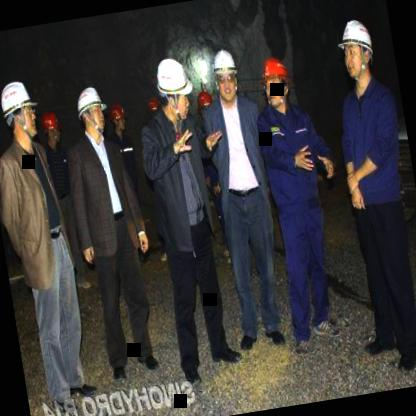helmet: (332, 11, 381, 86), (0, 72, 42, 149), (258, 50, 298, 111), (154, 52, 192, 115), (209, 38, 244, 102), (72, 82, 109, 136), (104, 96, 132, 141), (38, 108, 66, 150), (142, 90, 165, 130), (194, 87, 214, 123)
